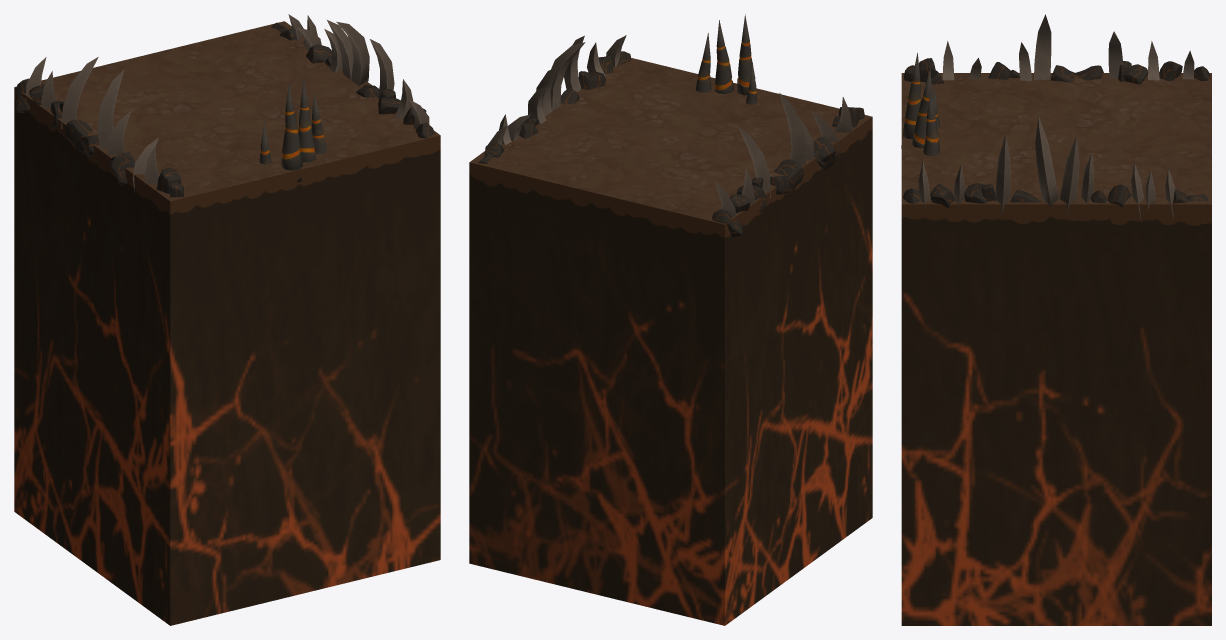
The model's file is Plataforma Estala Medio.fbx.
The picture shows the model from 3 angles, left to right: view 1: azimuth 30°, elevation 25°; view 2: azimuth 150°, elevation 25°; view 3: azimuth 270°, elevation 25°; orthographic projection. The views are drawn at different scales.
Parts seen in each view (by area): view 1: Plataforma 1.006, Cylinder.020, Cone.014, Cone.004, Cylinder.021, Cone.001, Cone.008, Cone.011; view 2: Plataforma 1.006, Cone.004, Cylinder.021, Cylinder.020, Cone.014, Cone.001, Cylinder.022; view 3: Plataforma 1.006, Cone.014, Cone.004, Cone.011, Cylinder.020, Cone.008, Cylinder.021, Cylinder.022, Cone.001, Cone.012.
Part boxes in pixels (bbox=[...]): Plataforma 1.006: bbox=[14, 21, 440, 625]; Cylinder.020: bbox=[281, 81, 302, 182]; Cone.014: bbox=[336, 21, 369, 86]; Cone.004: bbox=[97, 70, 123, 149]; Cylinder.021: bbox=[298, 77, 316, 162]; Cone.001: bbox=[61, 57, 98, 128]; Cone.008: bbox=[370, 39, 394, 98]; Cone.011: bbox=[327, 20, 353, 79]; Plataforma 1.006: bbox=[469, 58, 872, 625]; Cone.004: bbox=[779, 93, 807, 165]; Cylinder.021: bbox=[714, 20, 733, 93]; Cylinder.020: bbox=[737, 14, 756, 95]; Cone.014: bbox=[550, 42, 585, 111]; Cone.001: bbox=[739, 127, 770, 198]; Cylinder.022: bbox=[695, 33, 711, 92]; Plataforma 1.006: bbox=[901, 73, 1211, 625]; Cone.014: bbox=[1035, 116, 1058, 206]; Cone.004: bbox=[1034, 14, 1051, 79]; Cone.011: bbox=[1059, 134, 1079, 216]; Cylinder.020: bbox=[901, 52, 921, 148]; Cone.008: bbox=[995, 133, 1010, 213]; Cylinder.021: bbox=[911, 67, 931, 148]; Cylinder.022: bbox=[923, 89, 940, 155]; Cone.001: bbox=[1108, 31, 1123, 78]; Cone.012: bbox=[1081, 153, 1093, 203].
Bounding box in the file's own units: 1058 × 1795 × 1002.
